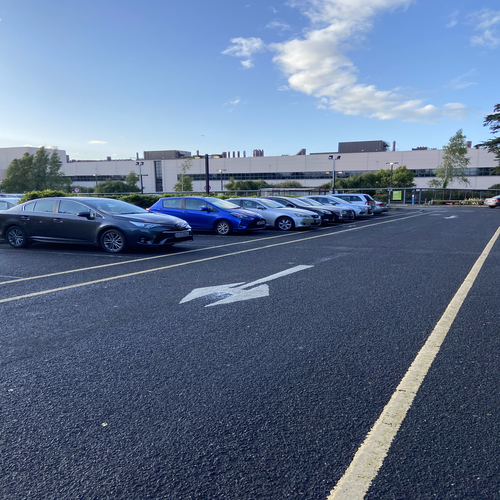Car: (5, 193, 195, 254), (175, 196, 265, 236), (245, 196, 317, 233)
